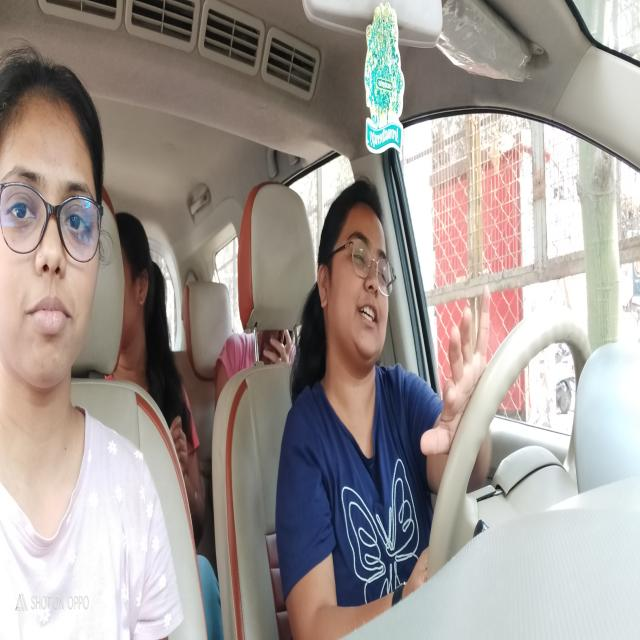drowsy: (316, 171, 396, 410)
person: (1, 43, 105, 422), (112, 191, 180, 444)
